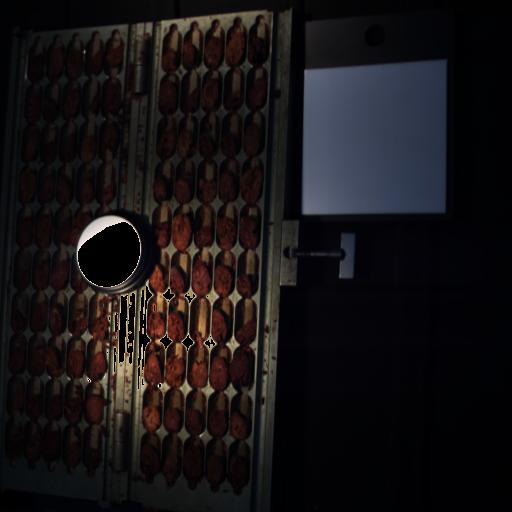bueno: (182, 443, 203, 476), (215, 218, 237, 249), (167, 311, 186, 341), (211, 310, 229, 341), (166, 355, 183, 385), (66, 350, 84, 378), (140, 446, 158, 473), (247, 33, 264, 61), (209, 408, 226, 434), (236, 320, 256, 342), (43, 434, 60, 459), (36, 216, 49, 248), (196, 223, 213, 246), (153, 221, 168, 247), (69, 308, 85, 332), (93, 316, 110, 338), (33, 303, 46, 331), (80, 137, 95, 160), (25, 394, 41, 415), (53, 220, 68, 242), (222, 131, 235, 156), (30, 53, 42, 79), (181, 42, 195, 63), (87, 52, 101, 71), (85, 448, 98, 468)
malo: (232, 351, 252, 386), (192, 261, 211, 294), (168, 263, 187, 293), (241, 218, 257, 248), (16, 218, 34, 244), (247, 79, 264, 105), (26, 92, 41, 121), (164, 407, 182, 431), (52, 262, 68, 289), (8, 348, 25, 368), (42, 100, 58, 120), (65, 398, 81, 417), (225, 93, 240, 108)
parcial: (171, 210, 192, 251), (142, 345, 161, 384), (203, 38, 225, 69), (227, 28, 244, 64), (101, 81, 119, 114), (212, 265, 231, 296), (210, 356, 227, 390), (66, 48, 85, 77), (228, 456, 249, 482), (45, 50, 62, 82), (242, 168, 259, 200), (201, 79, 219, 109), (244, 123, 261, 154), (177, 131, 197, 157), (88, 352, 107, 378), (145, 311, 163, 338), (160, 81, 176, 111), (10, 261, 30, 285), (207, 451, 223, 481), (222, 171, 238, 200), (49, 303, 64, 333), (84, 396, 102, 421), (231, 413, 250, 436), (148, 266, 166, 290), (20, 171, 36, 197), (189, 361, 207, 384), (62, 88, 77, 115), (46, 348, 61, 375), (157, 130, 173, 155), (237, 270, 253, 295), (144, 405, 160, 430), (202, 134, 219, 157), (29, 347, 44, 372), (181, 90, 199, 110), (152, 174, 167, 198), (163, 451, 178, 475), (23, 433, 38, 457), (22, 135, 37, 157), (39, 175, 52, 200), (102, 125, 116, 148), (56, 180, 70, 203), (187, 409, 201, 432), (174, 181, 190, 201), (198, 180, 214, 200), (61, 135, 76, 156), (11, 309, 26, 330), (76, 178, 90, 200), (34, 264, 48, 286), (66, 445, 81, 465), (8, 391, 22, 412), (104, 47, 122, 63), (5, 432, 17, 456), (161, 51, 176, 70), (47, 396, 60, 417), (94, 187, 113, 201), (84, 97, 99, 113), (41, 142, 54, 158)
